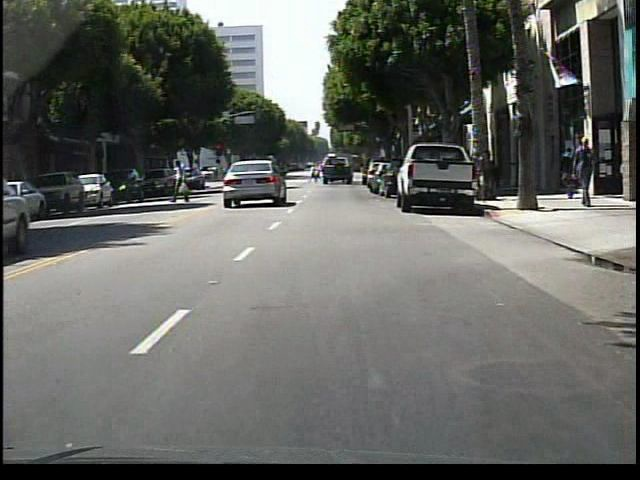person: (574, 133, 600, 208), (558, 144, 577, 202), (175, 157, 193, 205), (311, 165, 321, 186)
